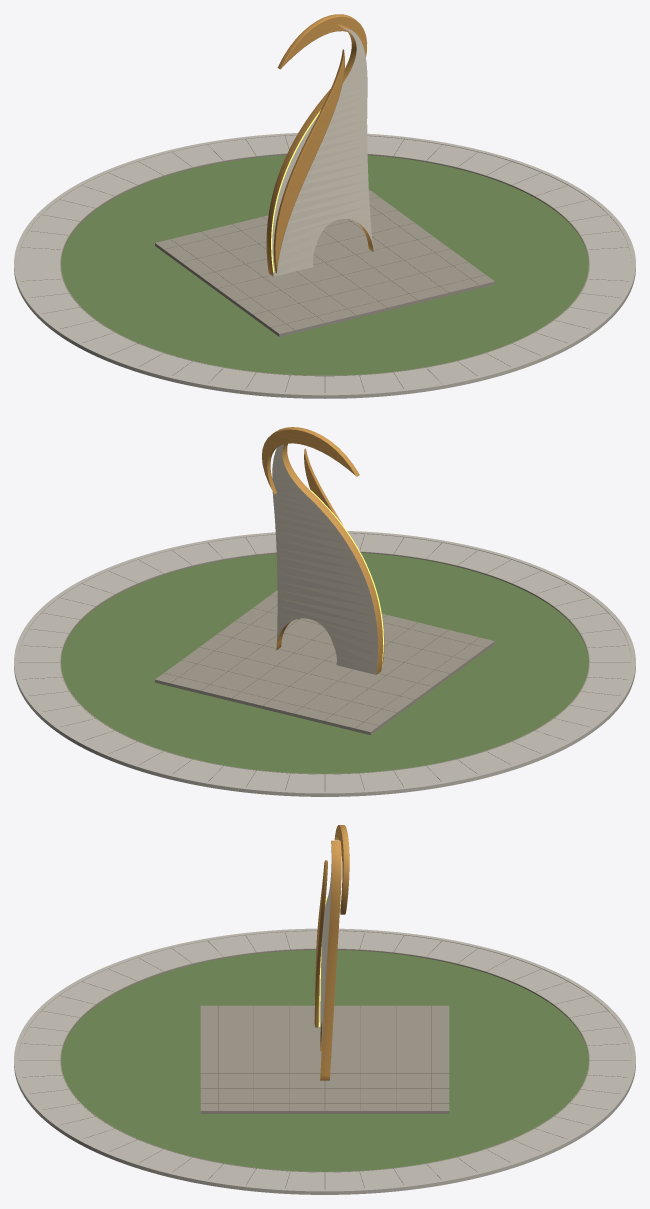
Rendered from rotatoria.glb.
3 views of the same model, one above another, from view 1: azimuth 30°, elevation 25°; view 2: azimuth 150°, elevation 25°; view 3: azimuth 270°, elevation 25° (orthographic).
Visible parts, largest first — view 1: Rotatoria; view 2: Rotatoria; view 3: Rotatoria.
Boxes of the visible parts, bbox=[...] form: Rotatoria: bbox=[14, 14, 635, 398]; Rotatoria: bbox=[14, 427, 635, 796]; Rotatoria: bbox=[14, 825, 635, 1194].
Size of the model in its own units: 35 by 14.9 by 35.
